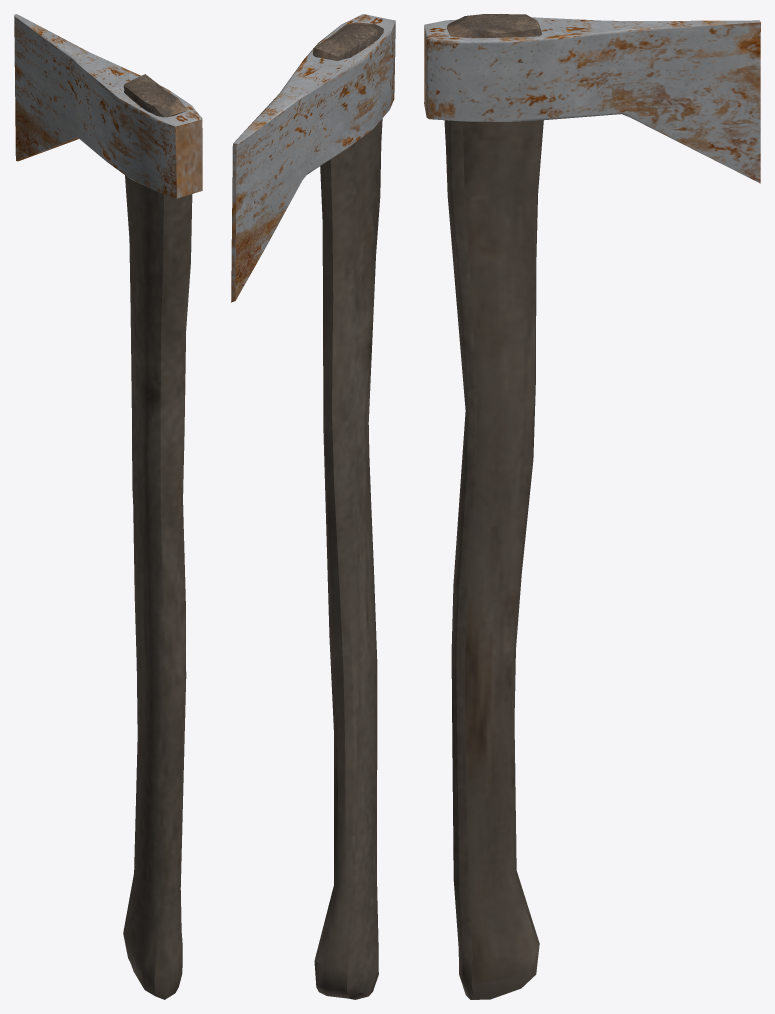
File: SM_Axe.fbx
3 views of the same model, side by side, from view 1: azimuth 30°, elevation 25°; view 2: azimuth 150°, elevation 25°; view 3: azimuth 270°, elevation 25° (orthographic). The views are drawn at different scales.
Parts seen in each view (by area): view 1: SM_Axe_LOD0; view 2: SM_Axe_LOD0; view 3: SM_Axe_LOD0.
Boxes of the visible parts, box(x1,y1,x2,y2) form: SM_Axe_LOD0: box(14, 14, 202, 999); SM_Axe_LOD0: box(231, 14, 395, 999); SM_Axe_LOD0: box(424, 14, 760, 999).
Bounding box in the file's own units: 4.03 × 21.59 × 69.18.
